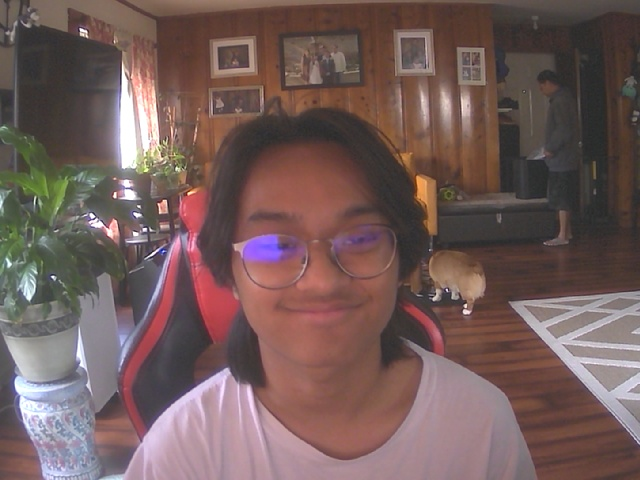happy: (223, 122, 413, 370)
